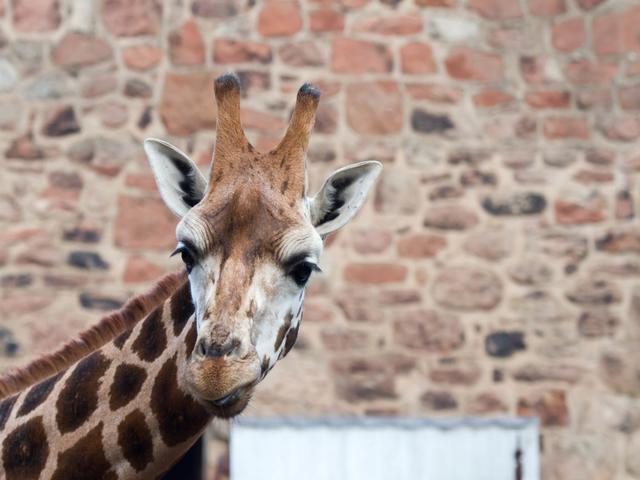giraffe: (62, 25, 373, 480)
